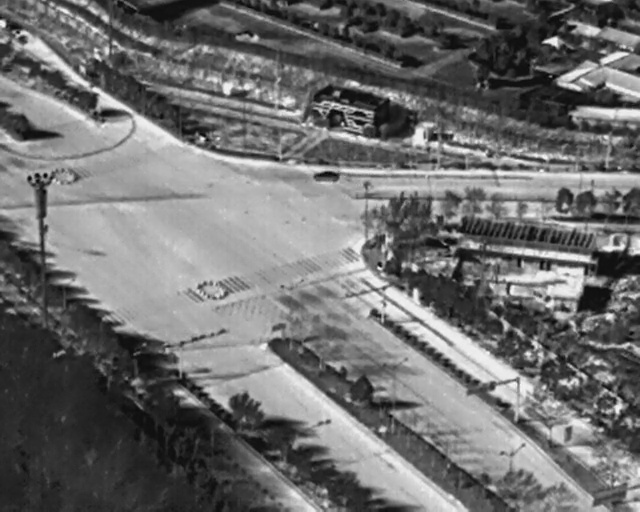Car: (313, 169, 341, 183)
